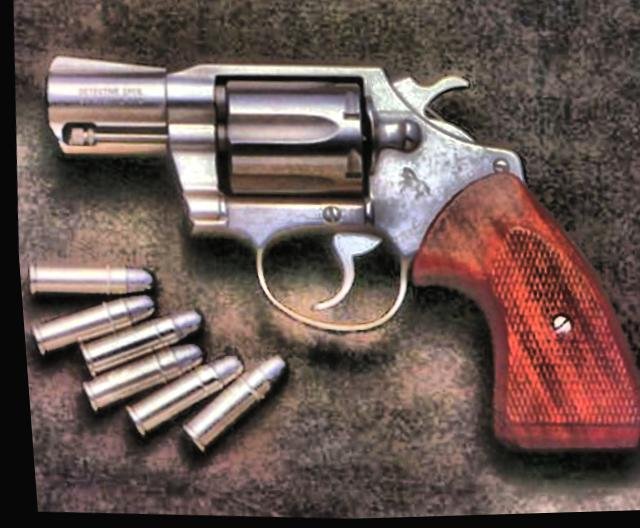pistol: (20, 39, 640, 479)
